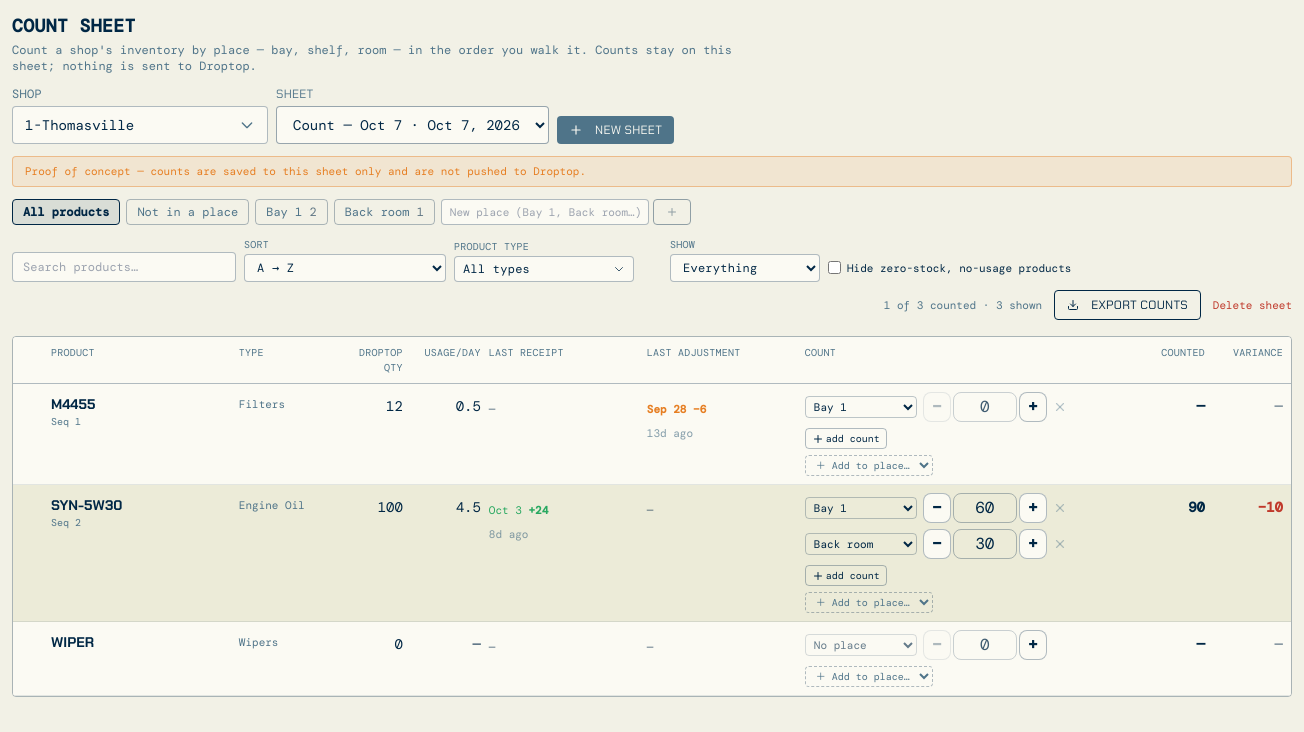
Scenario: CountSheetPage › lists the shop's Droptop products with hints, and shows where else a product was counted
Expected: the text "SYN-5W30" is shown, left=51, top=496, right=122, bottom=514
Expected: the text "M4455" is shown, left=51, top=395, right=95, bottom=413
Click the button "Bay 1 2": click(291, 212) left=255, top=199, right=328, bottom=225
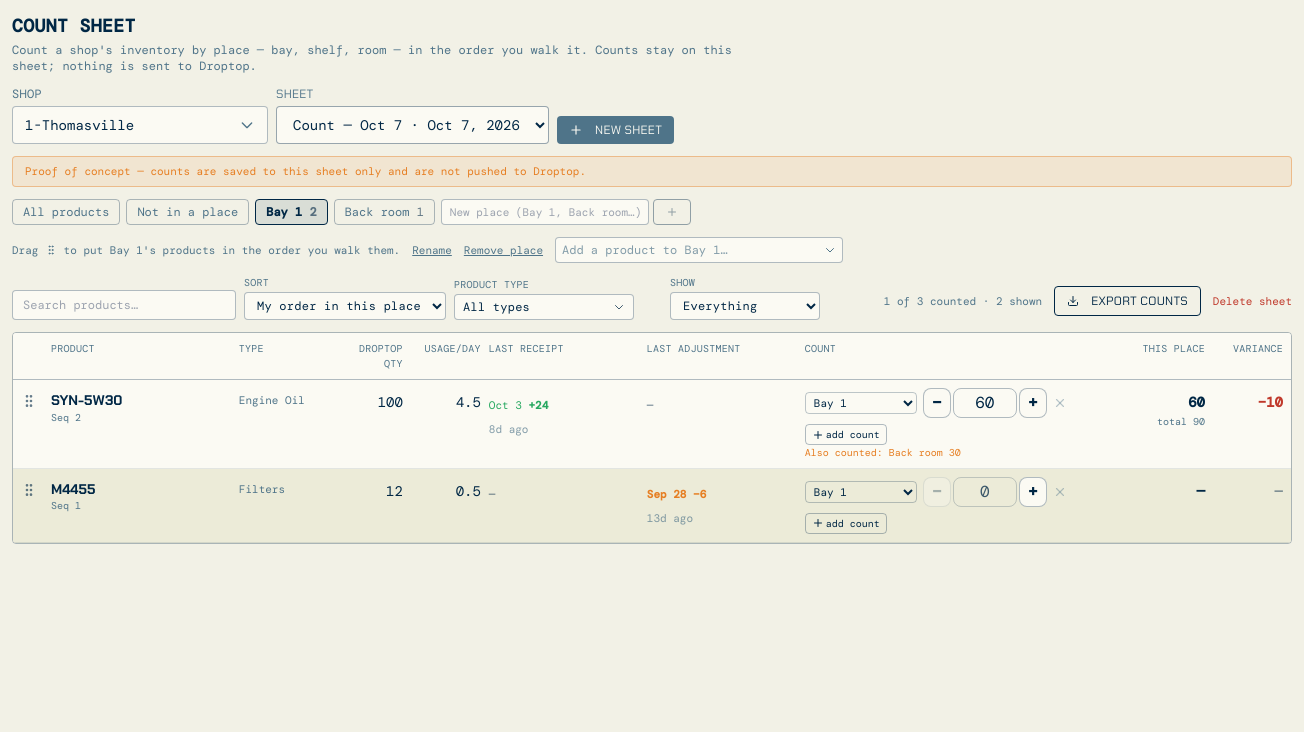
Now the text "WIPER" is gone
Now the text "Also counted: Back room 30" is shown, box left=805, top=446, right=961, bottom=459
Click the button "add count" in the row of "total": click(846, 434) left=805, top=424, right=887, bottom=445
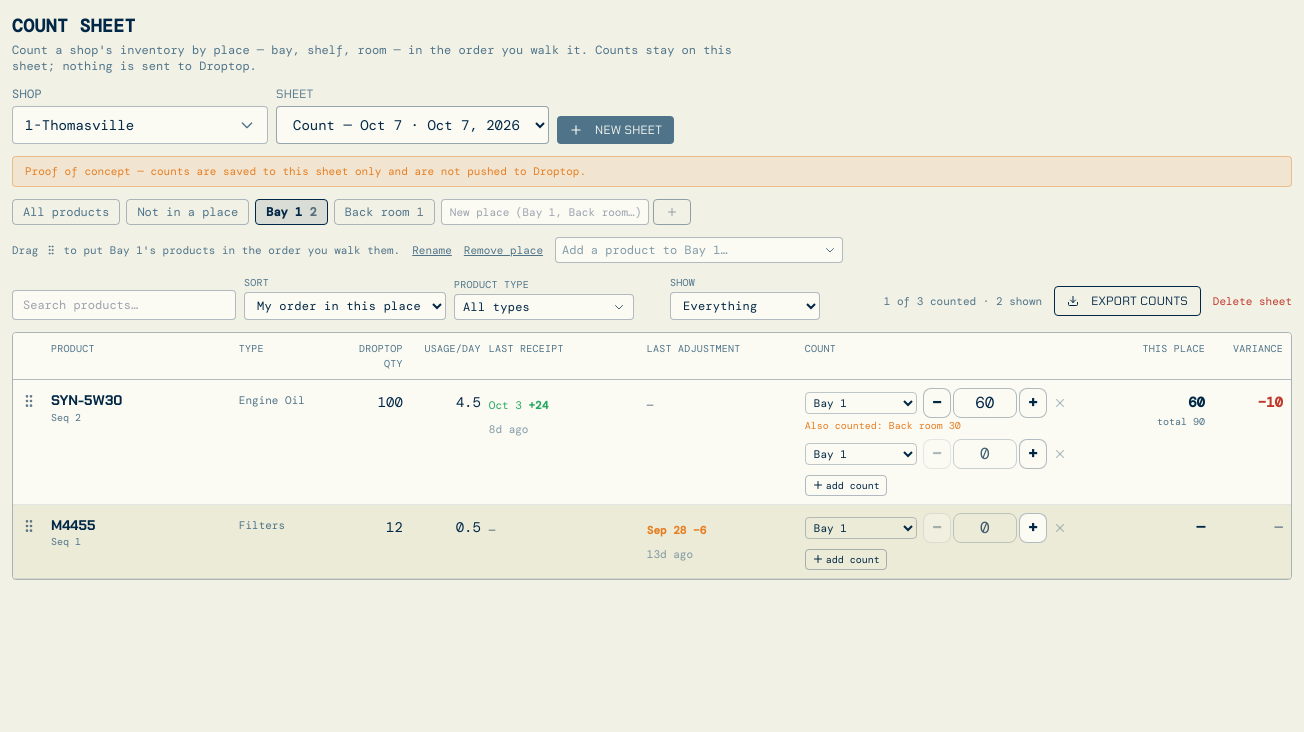
Now the number of number fields is 3, box left=953, top=388, right=1017, bottom=418; left=953, top=438, right=1017, bottom=468; left=953, top=512, right=1017, bottom=542
